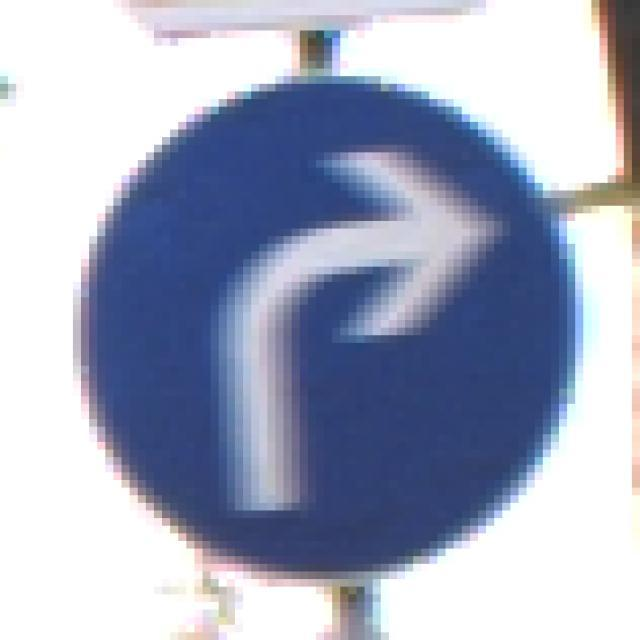compulsary turn right ahead: (58, 66, 583, 589)
